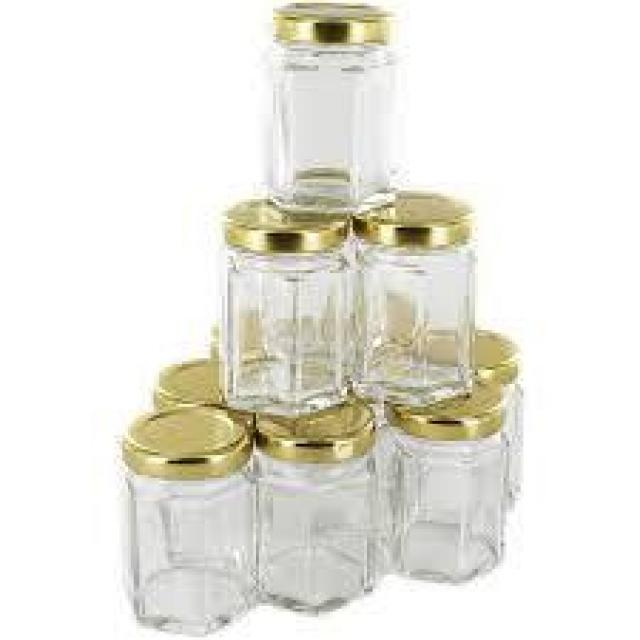non-organic waste: (259, 3, 404, 216)
